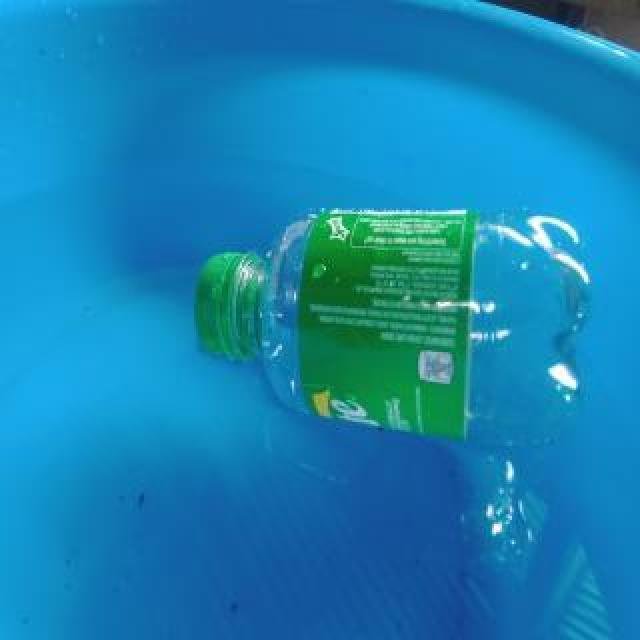bottle: (194, 203, 596, 451)
